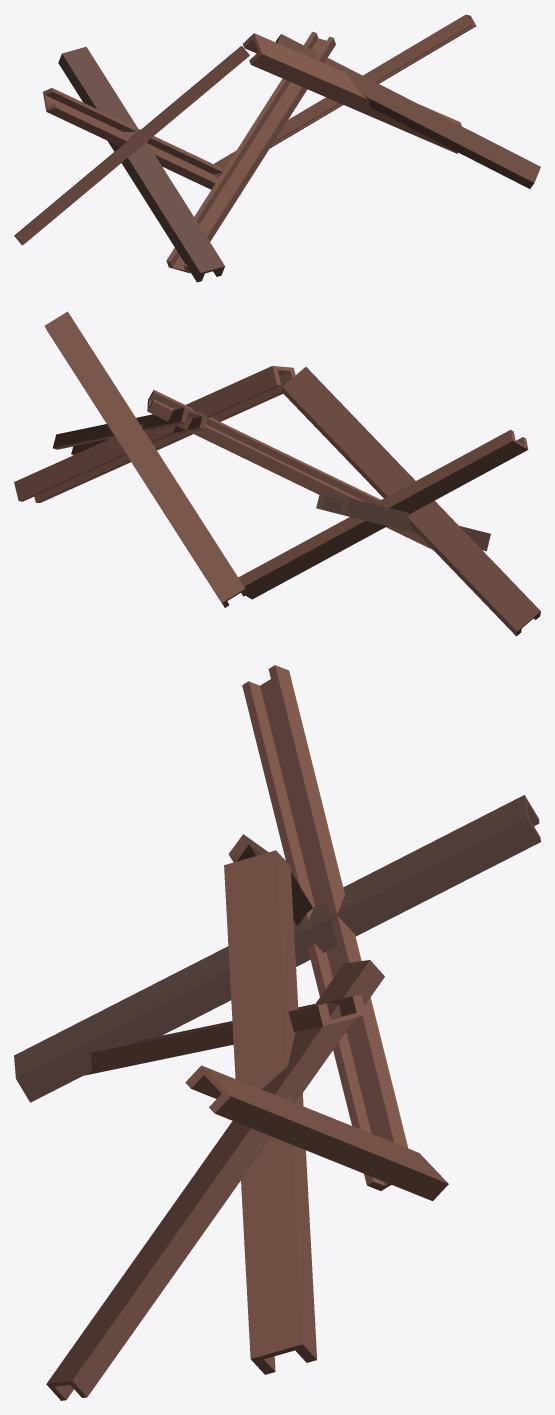
Rendered from Barrikade.fbx.
The picture shows the model from 3 angles, top to bottom: view 1: azimuth 30°, elevation 25°; view 2: azimuth 150°, elevation 25°; view 3: azimuth 270°, elevation 25°; orthographic projection. The views are drawn at different scales.
Visible parts, largest first — view 1: Cube.001, Cube.006, Cube.005, Cube.004, Cube.002, Cube, Cube.003; view 2: Cube, Cube.003, Cube.002, Cube.004, Cube.005, Cube.006, Cube.001; view 3: Cube.004, Cube.001, Cube.002, Cube.006, Cube.003, Cube.005, Cube.
Boxes of the visible parts, left/top/right/bottom form: Cube.001: left=58, top=46, right=224, bottom=282; Cube.006: left=276, top=34, right=540, bottom=188; Cube.005: left=166, top=32, right=335, bottom=273; Cube.004: left=243, top=33, right=461, bottom=153; Cube.002: left=43, top=88, right=222, bottom=189; Cube: left=14, top=46, right=249, bottom=245; Cube.003: left=214, top=14, right=476, bottom=179; Cube: left=281, top=367, right=540, bottom=636; Cube.003: left=45, top=311, right=247, bottom=607; Cube.002: left=238, top=429, right=528, bottom=599; Cube.004: left=14, top=366, right=295, bottom=502; Cube.005: left=147, top=390, right=432, bottom=549; Cube.006: left=53, top=408, right=207, bottom=455; Cube.001: left=316, top=491, right=490, bottom=551; Cube.004: left=224, top=850, right=316, bottom=1374; Cube.001: left=14, top=795, right=540, bottom=1102; Cube.002: left=242, top=665, right=408, bottom=1190; Cube.006: left=46, top=960, right=384, bottom=1400; Cube.003: left=185, top=1065, right=448, bottom=1201; Cube.005: left=84, top=994, right=366, bottom=1075; Cube: left=228, top=834, right=312, bottom=925.
Bounding box in the file's own units: 41.46 × 14.98 × 20.42.
